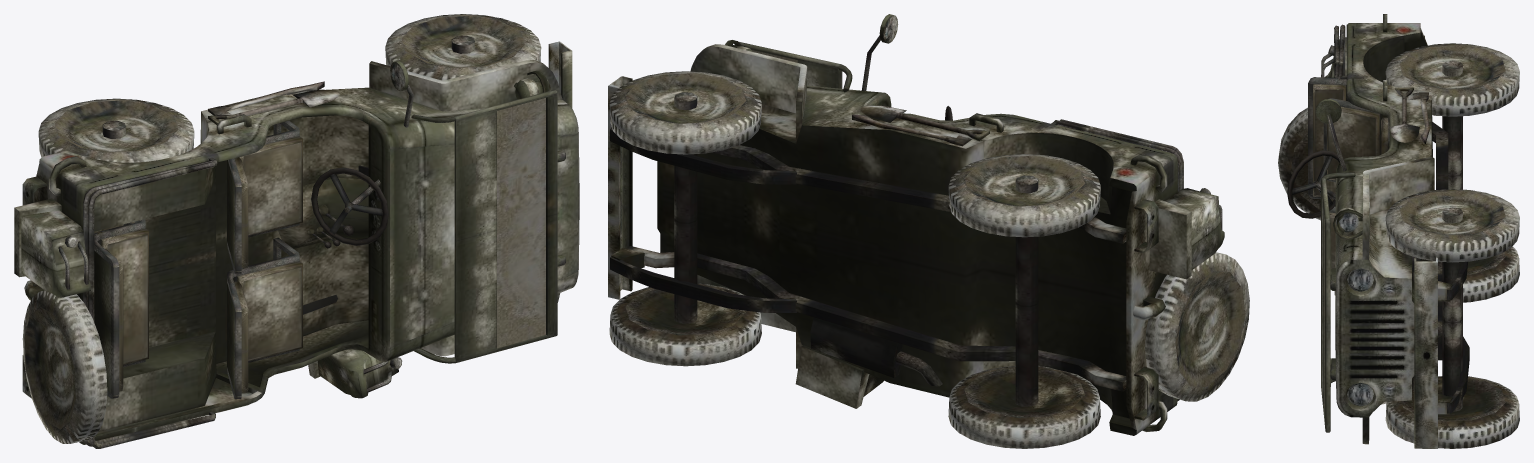
Rendered from vehicle_russia_jeep.glb.
The picture shows the model from 3 angles, left to right: view 1: azimuth 30°, elevation 25°; view 2: azimuth 150°, elevation 25°; view 3: azimuth 270°, elevation 25°; orthographic projection. The views are drawn at different scales.
Bounding box in the file's own units: 145 × 85.2 × 61.88.
2 materials, 2 textured.
